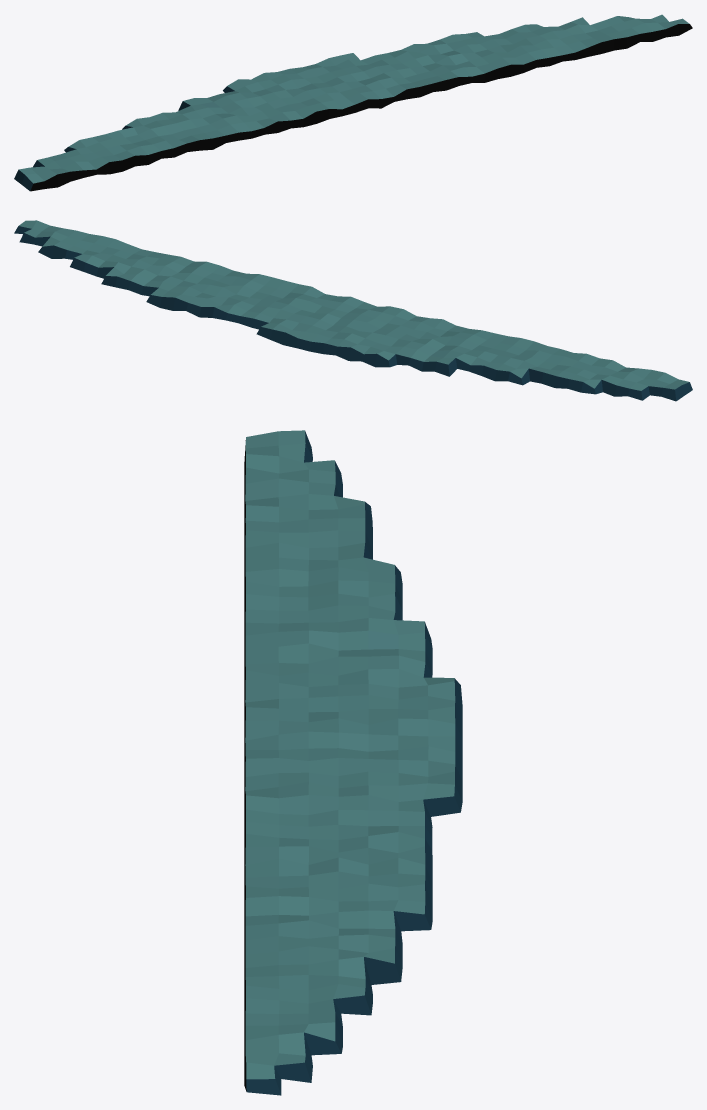
Rendered from Continent_6.fbx.
The picture shows the model from 3 angles, top to bottom: view 1: azimuth 30°, elevation 25°; view 2: azimuth 150°, elevation 25°; view 3: azimuth 270°, elevation 25°; orthographic projection. The views are drawn at different scales.
Visible parts, largest first — view 1: Continent_6; view 2: Continent_6; view 3: Continent_6.
Boxes of the visible parts, <box> form: Continent_6: <box>14,14,692,191</box>; Continent_6: <box>14,220,692,401</box>; Continent_6: <box>244,430,462,1095</box>.
Size of the model in its own units: 2.93 by 0.0567 by 0.4174.
